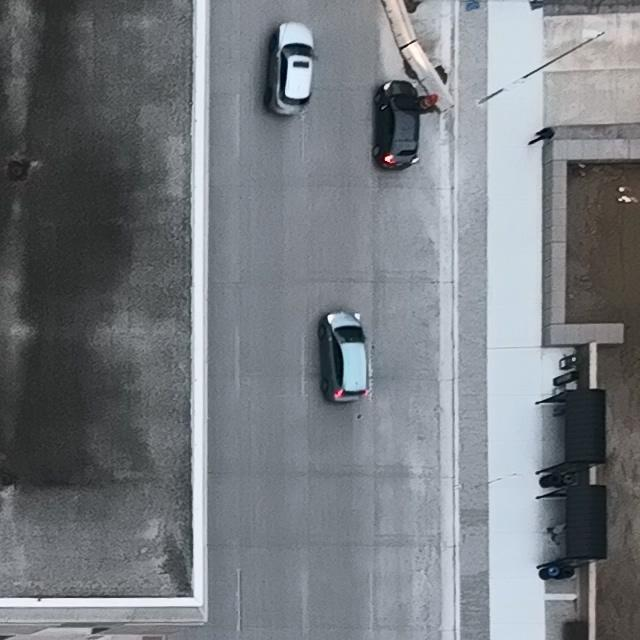car: (265, 22, 316, 116), (317, 312, 369, 404), (372, 80, 420, 171)
